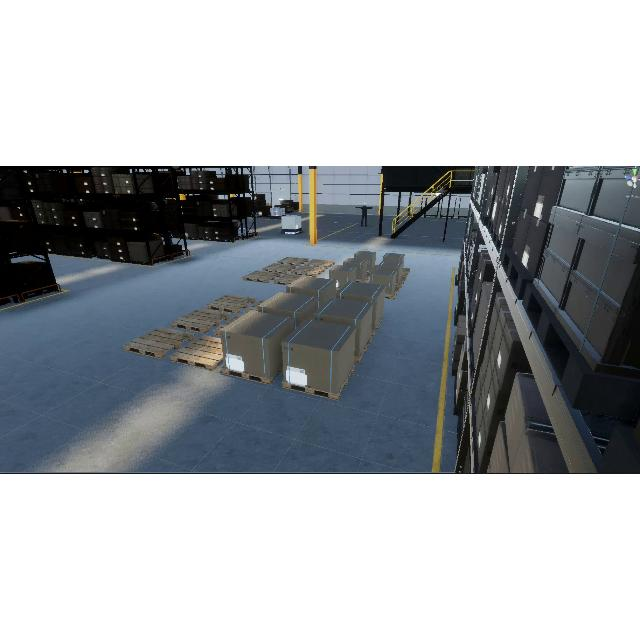wooden_pallet: (282, 365, 356, 401), (123, 327, 196, 359), (169, 336, 224, 372), (170, 309, 231, 333), (222, 367, 284, 386), (206, 293, 257, 314), (242, 270, 281, 283)
